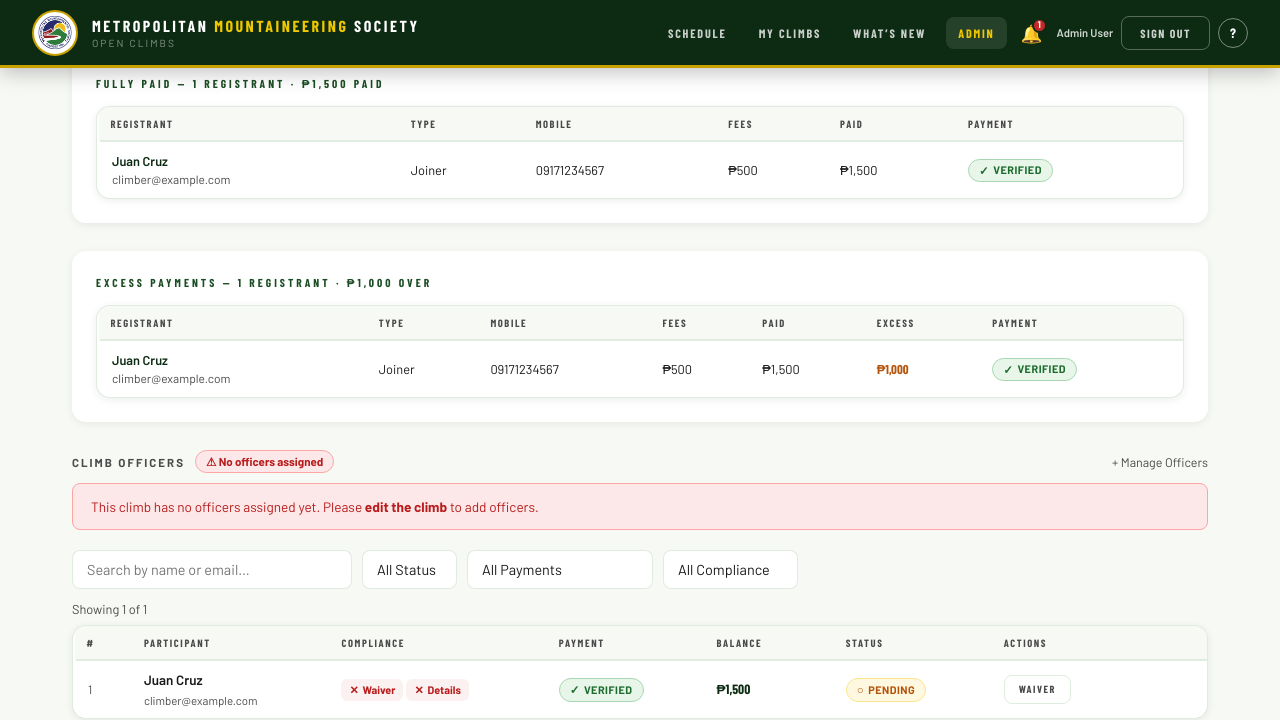
Admin ClimbDetail › refunding an excess payment › won't refund more than the excess
(page scrolled)
Click the button "Juan Cruz" below "Excess Payments".
click(140, 361)  # box [112,351,168,370]
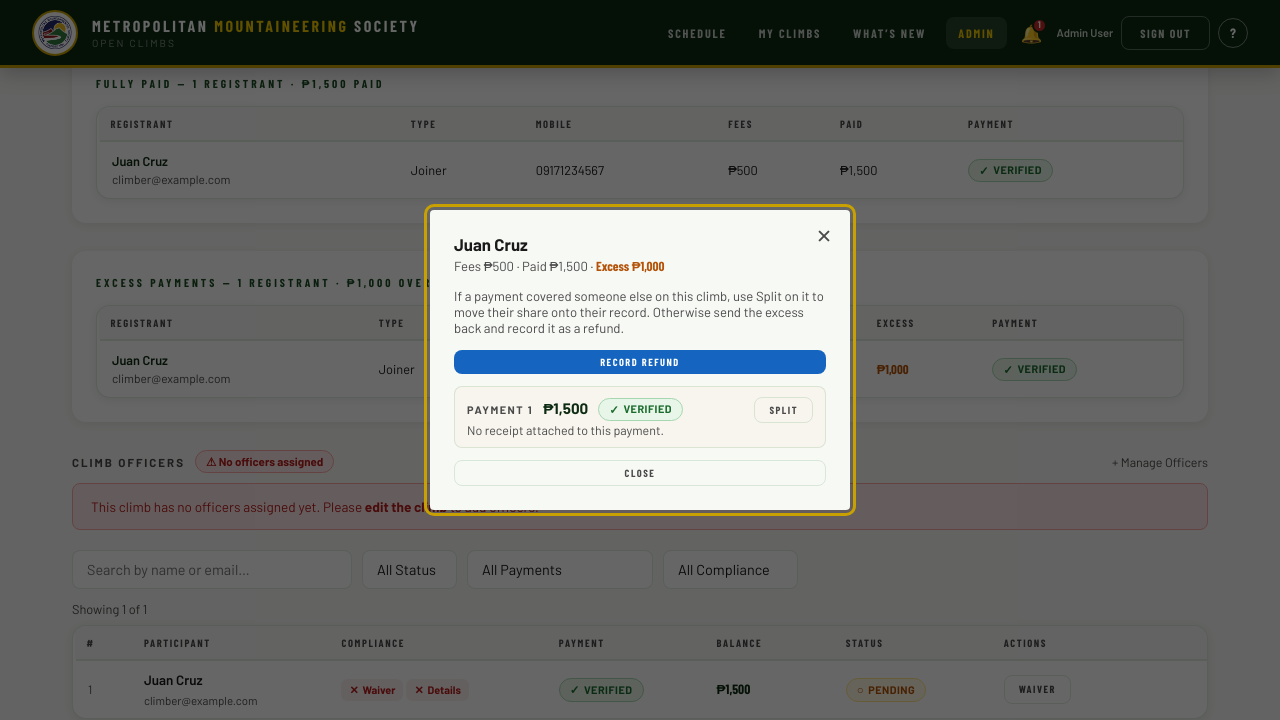
Click the button "Record Refund".
click(640, 362)  # box [454,350,826,374]
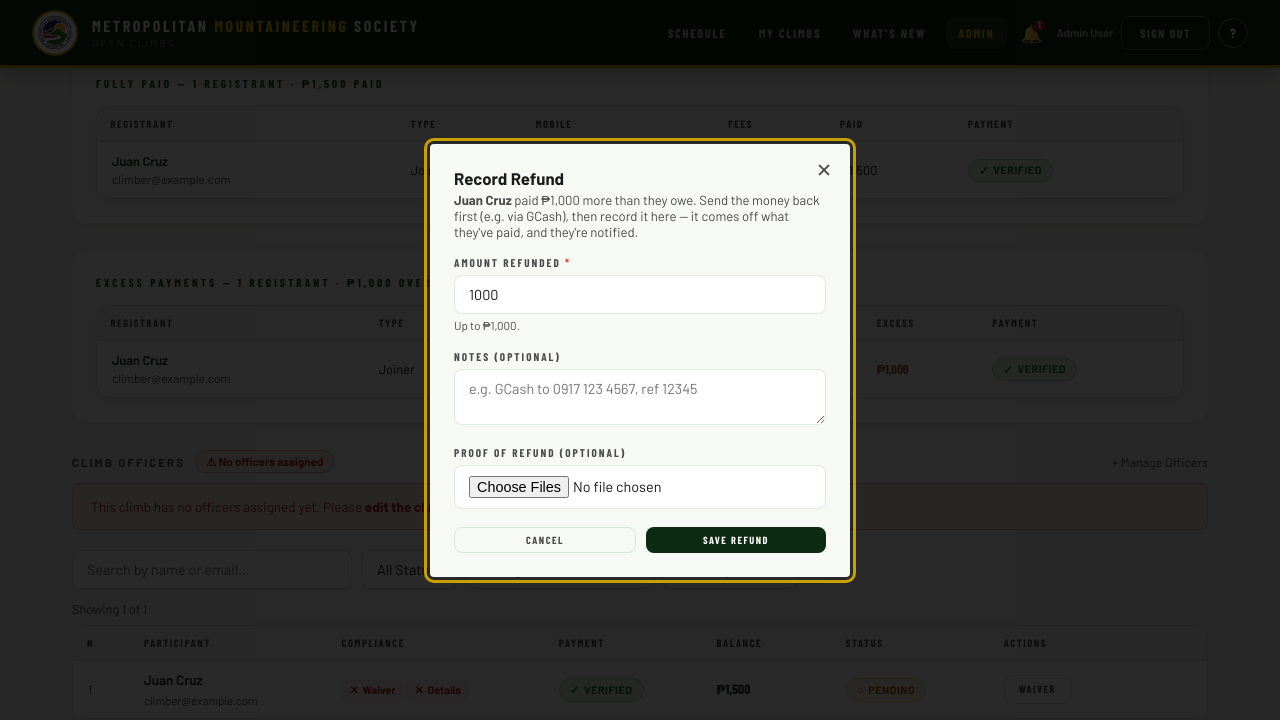
Replace the text in the number field labelled "Amount Refunded" with "1200" at [640, 294], box [454,274,826,314]
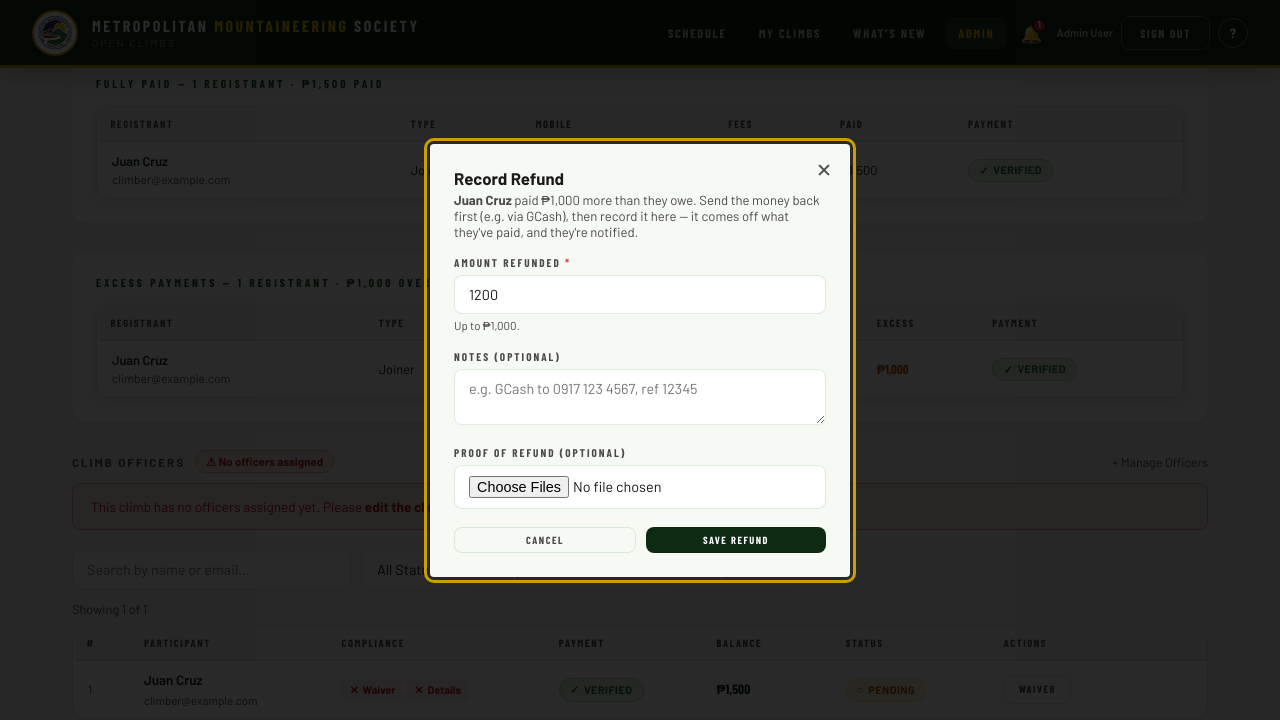
Click the button "Save Refund".
click(736, 540)  # box [646,526,826,552]
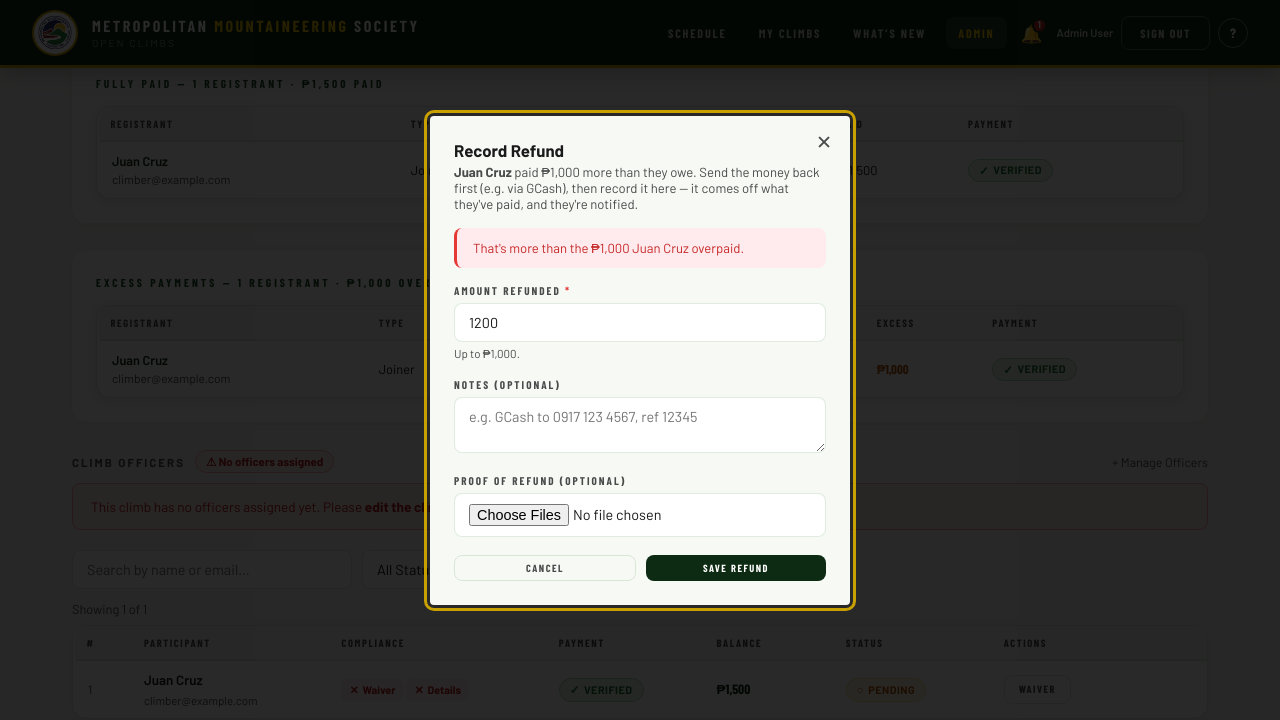
Expected: the text "That's more than the ₱1,000 Juan Cruz overpaid." is shown, [454,228,826,268]
